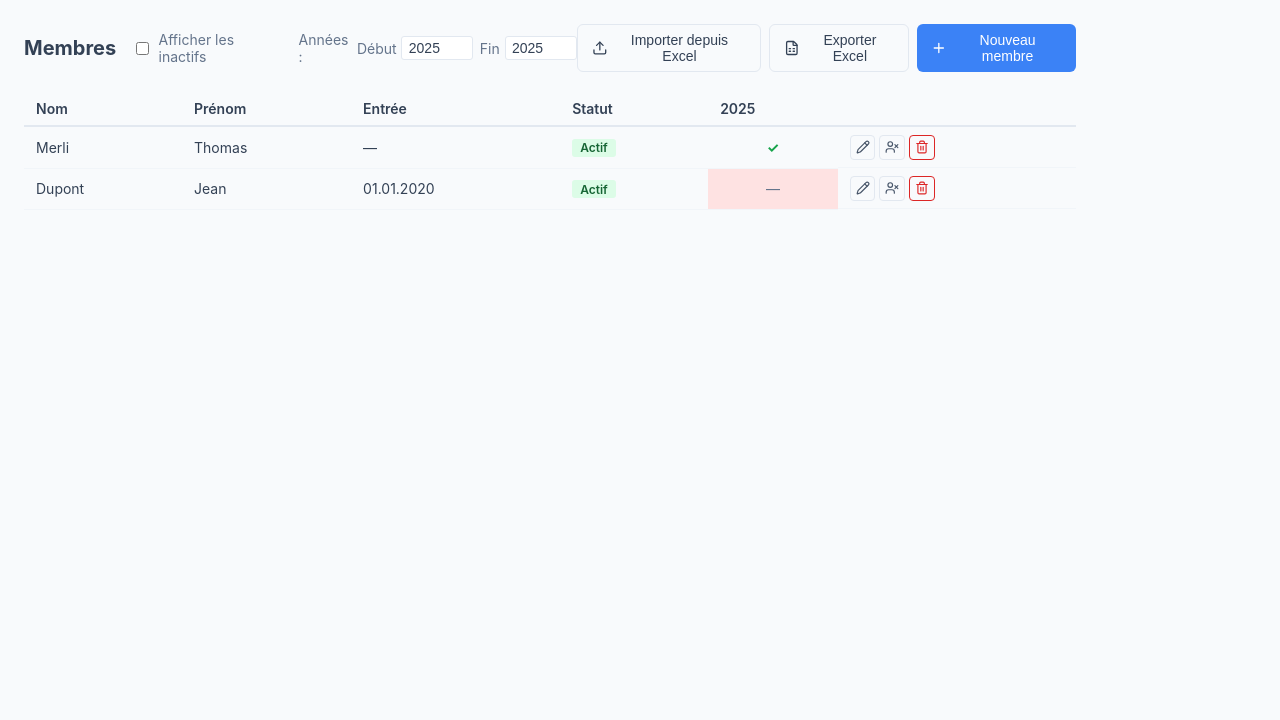
Test: Export Excel › affiche un toast d'erreur si exportMembers retourne { error }
The image size is (1280, 720).
Expected: the text "Merli" is shown, x1=24 y1=126 x2=182 y2=168
Click the button "Exporter Excel". click: (839,48)
box: x1=769 y1=24 x2=909 y2=72
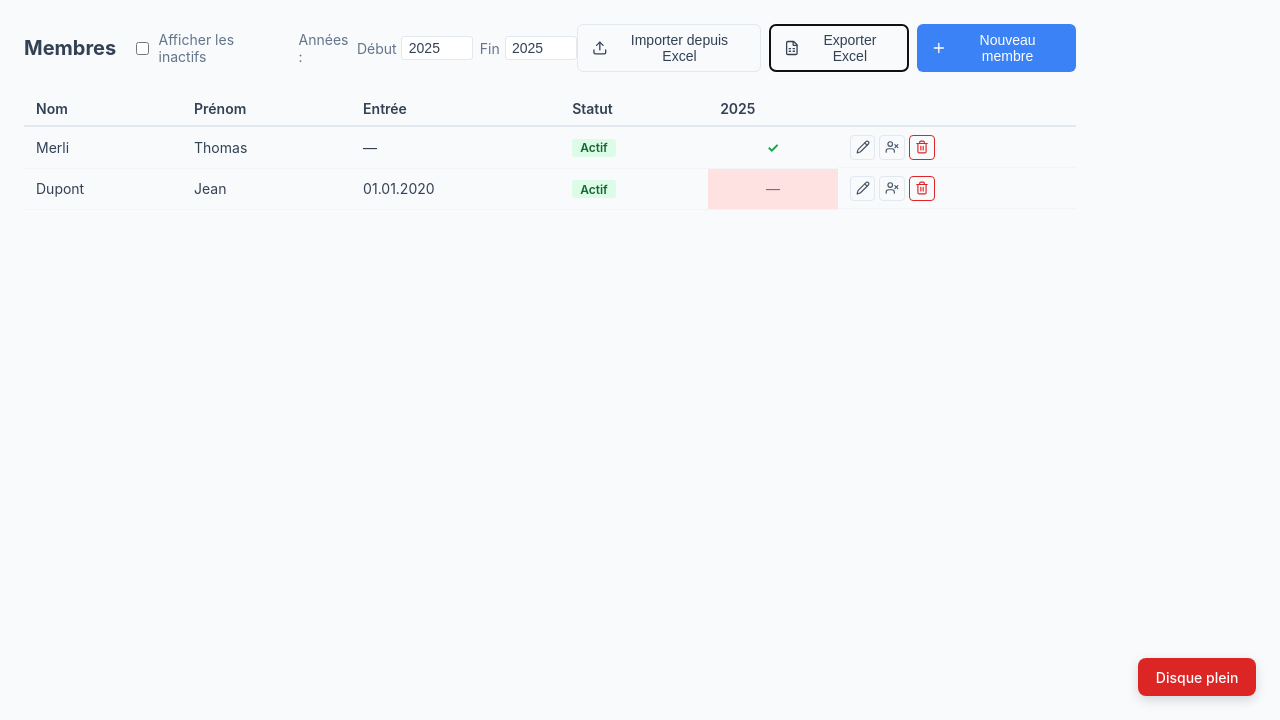
Result: the text "Disque plein" is shown at x1=1138 y1=658 x2=1256 y2=696
